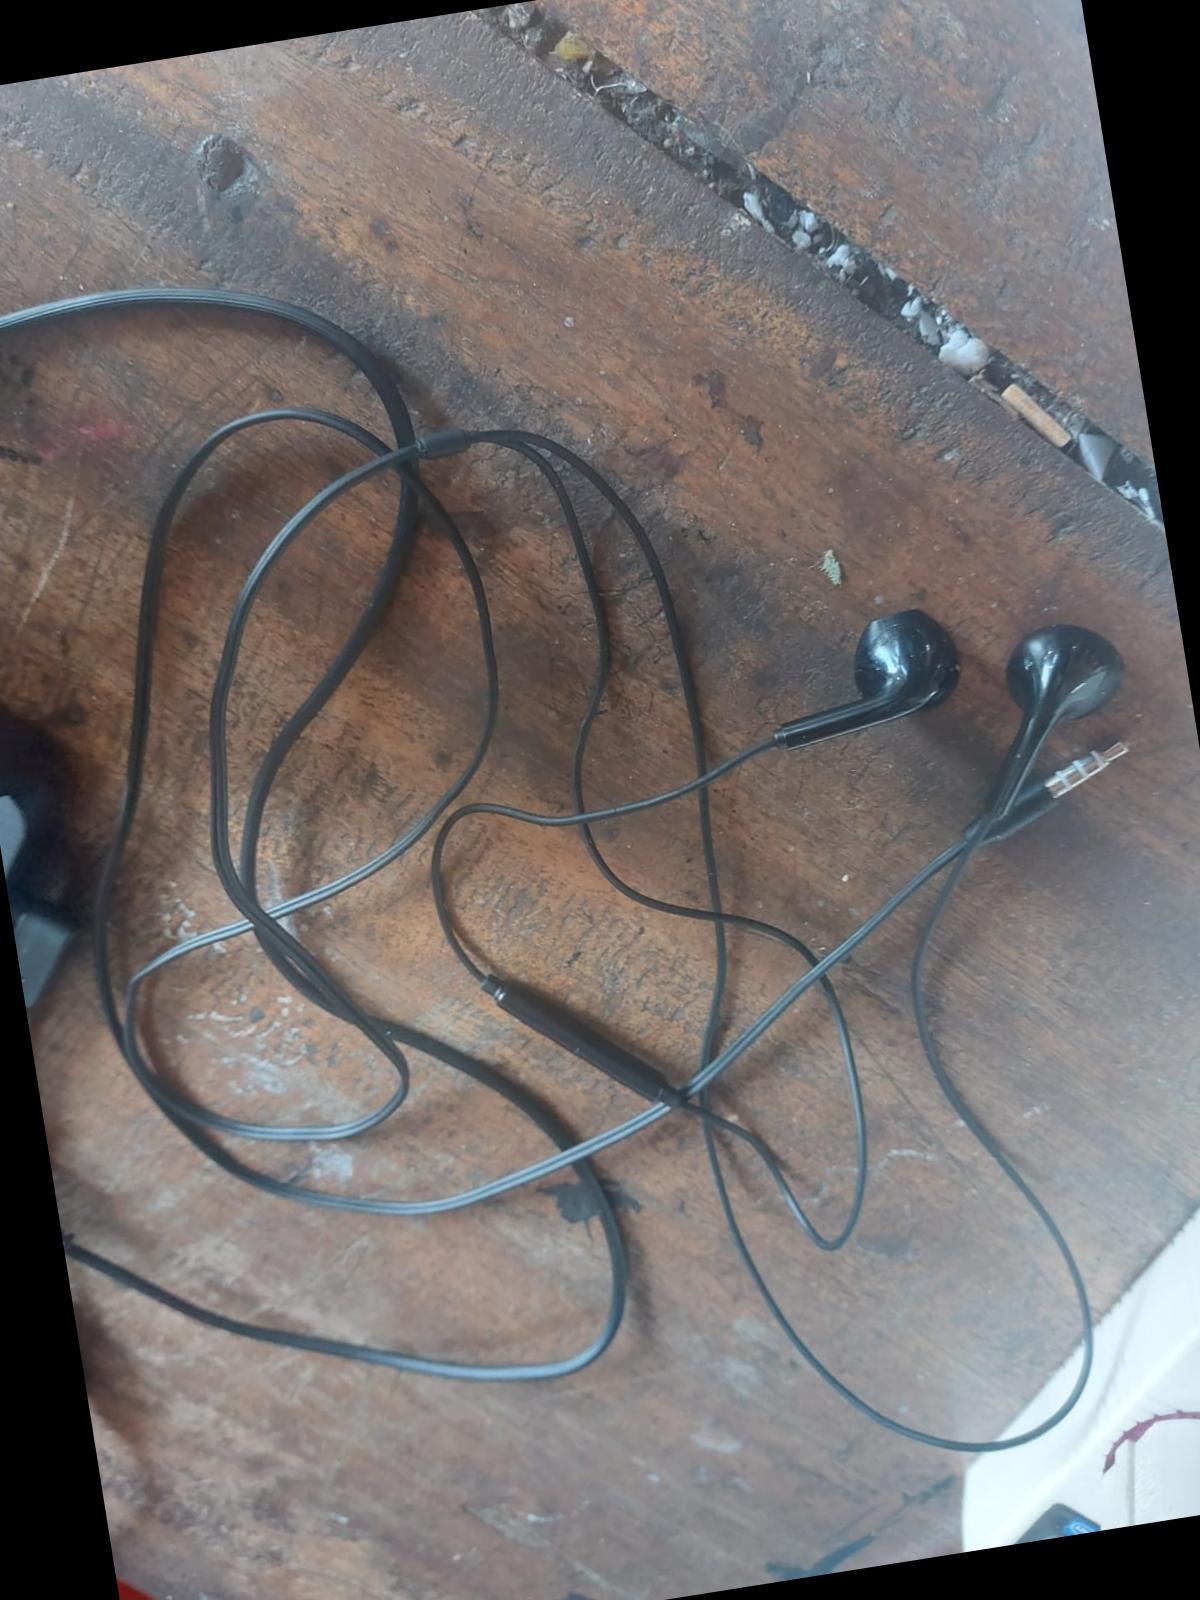Earphone: (722, 574, 988, 797), (944, 600, 1162, 835)
